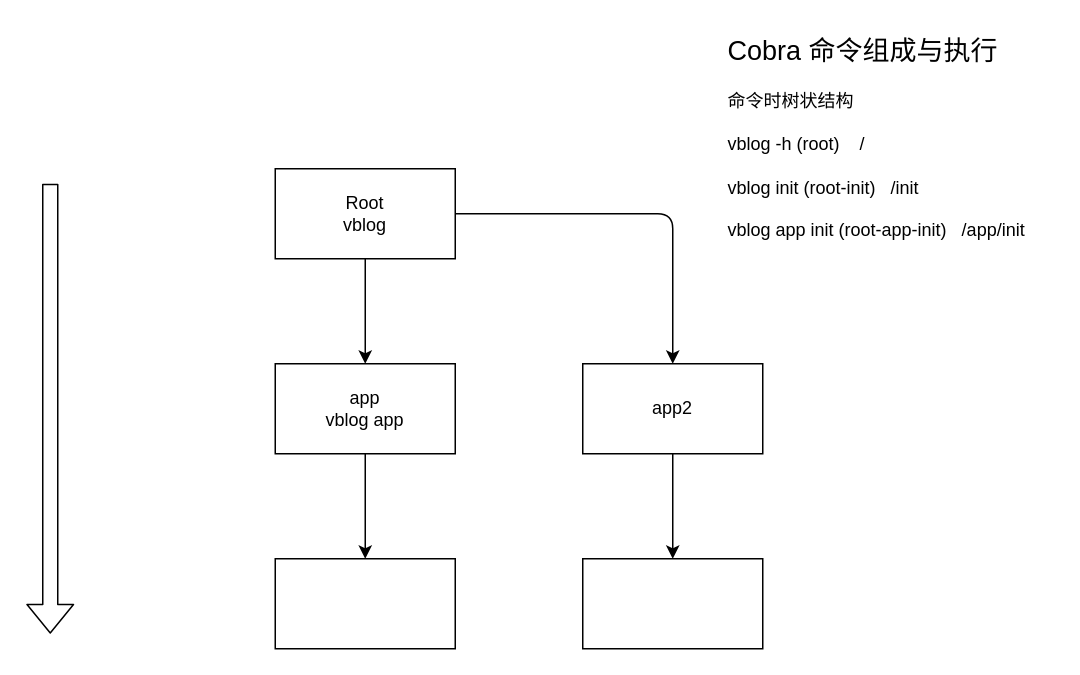
The diagram is 1080 pixels wide and 675 high, and some of its shapes have lost their labels. Each missing label, with the centre of its shape:
"init vblog app init" belongs at pixel 364 603.
"init vblog app2 init" belongs at pixel 672 603.
